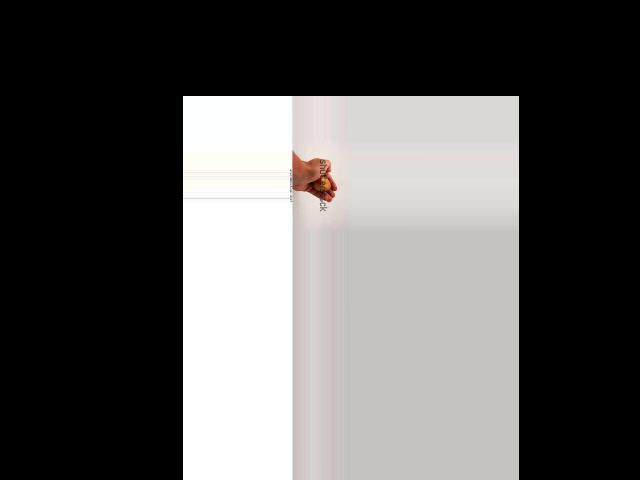egg: (312, 177, 330, 191)
